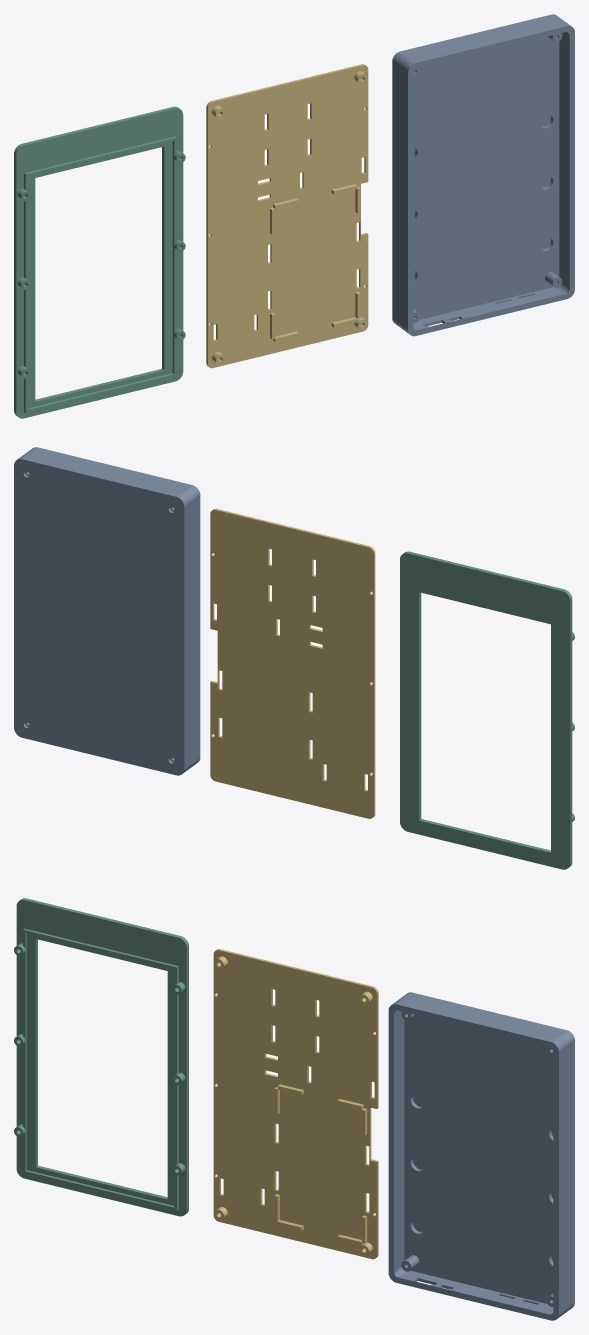
File: enclosure_exploded_preview.glb
3 renders of one model, top to bottom at view 1: azimuth 30°, elevation 25°; view 2: azimuth 150°, elevation 25°; view 3: azimuth 330°, elevation 25°, orthographic. The views are drawn at different scales.
Visible parts, largest first — view 1: rear_cover_v0_1, middle_carrier_v0_1, front_bezel_v0_1; view 2: rear_cover_v0_1, middle_carrier_v0_1, front_bezel_v0_1; view 3: rear_cover_v0_1, middle_carrier_v0_1, front_bezel_v0_1.
Boxes of the visible parts, bbox=[...] form: rear_cover_v0_1: bbox=[392, 14, 574, 336]; middle_carrier_v0_1: bbox=[206, 64, 368, 368]; front_bezel_v0_1: bbox=[14, 106, 185, 418]; rear_cover_v0_1: bbox=[14, 447, 200, 775]; middle_carrier_v0_1: bbox=[210, 508, 375, 818]; front_bezel_v0_1: bbox=[400, 551, 574, 869]; rear_cover_v0_1: bbox=[388, 992, 574, 1320]; middle_carrier_v0_1: bbox=[213, 949, 378, 1259]; front_bezel_v0_1: bbox=[14, 898, 188, 1216].
Size of the model in its own units: 418 by 200 by 21.
